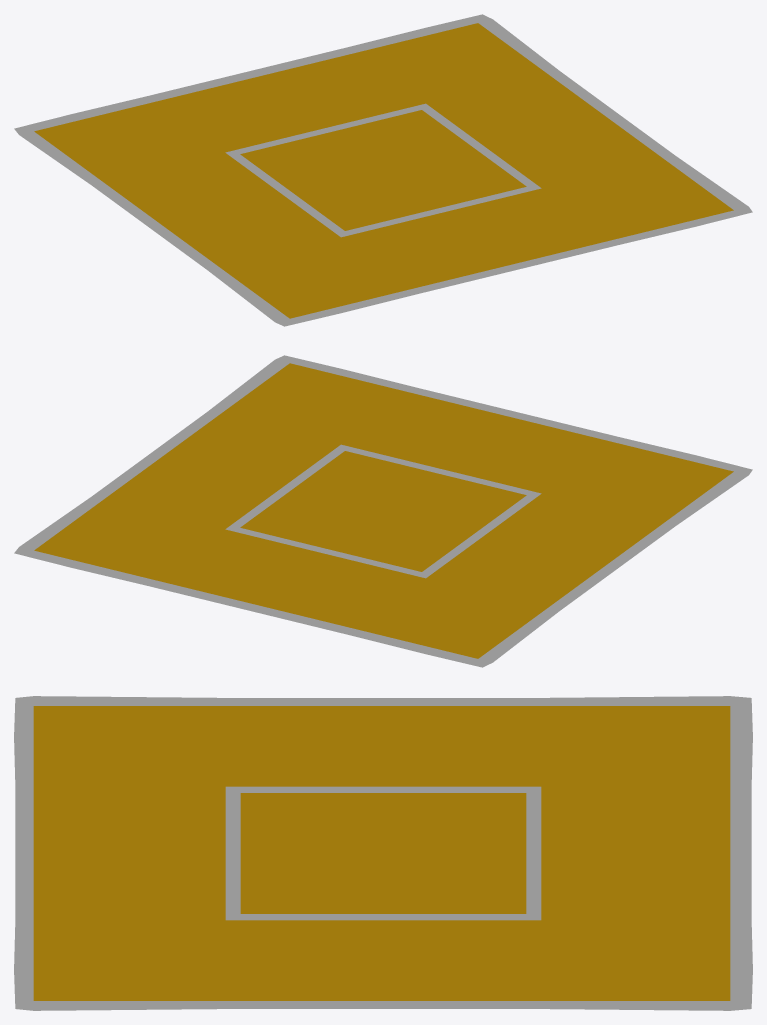
Rendered from Carpet.fbx.
3 views of the same model, one above another, from view 1: azimuth 30°, elevation 25°; view 2: azimuth 150°, elevation 25°; view 3: azimuth 270°, elevation 25° (orthographic). The views are drawn at different scales.
Parts seen in each view (by area): view 1: pPlane1; view 2: pPlane1; view 3: pPlane1.
Boxes of the visible parts, x1,y1,x2,y2 form: pPlane1: (14, 14, 752, 326); pPlane1: (14, 355, 752, 667); pPlane1: (14, 696, 752, 1010).
Bounding box in the file's own units: 2023 × 4.66e-13 × 2007.
